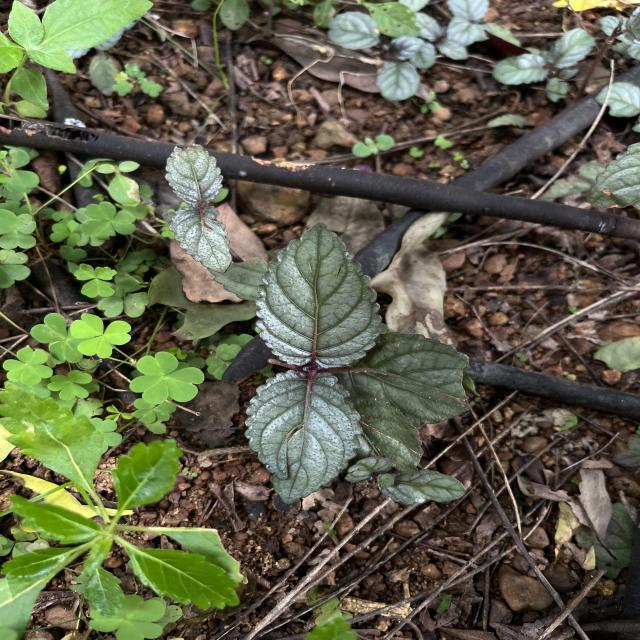Hemigraphis colorata: (252, 220, 384, 370), (242, 367, 366, 506), (336, 329, 474, 426), (160, 204, 234, 275), (163, 142, 226, 206)
